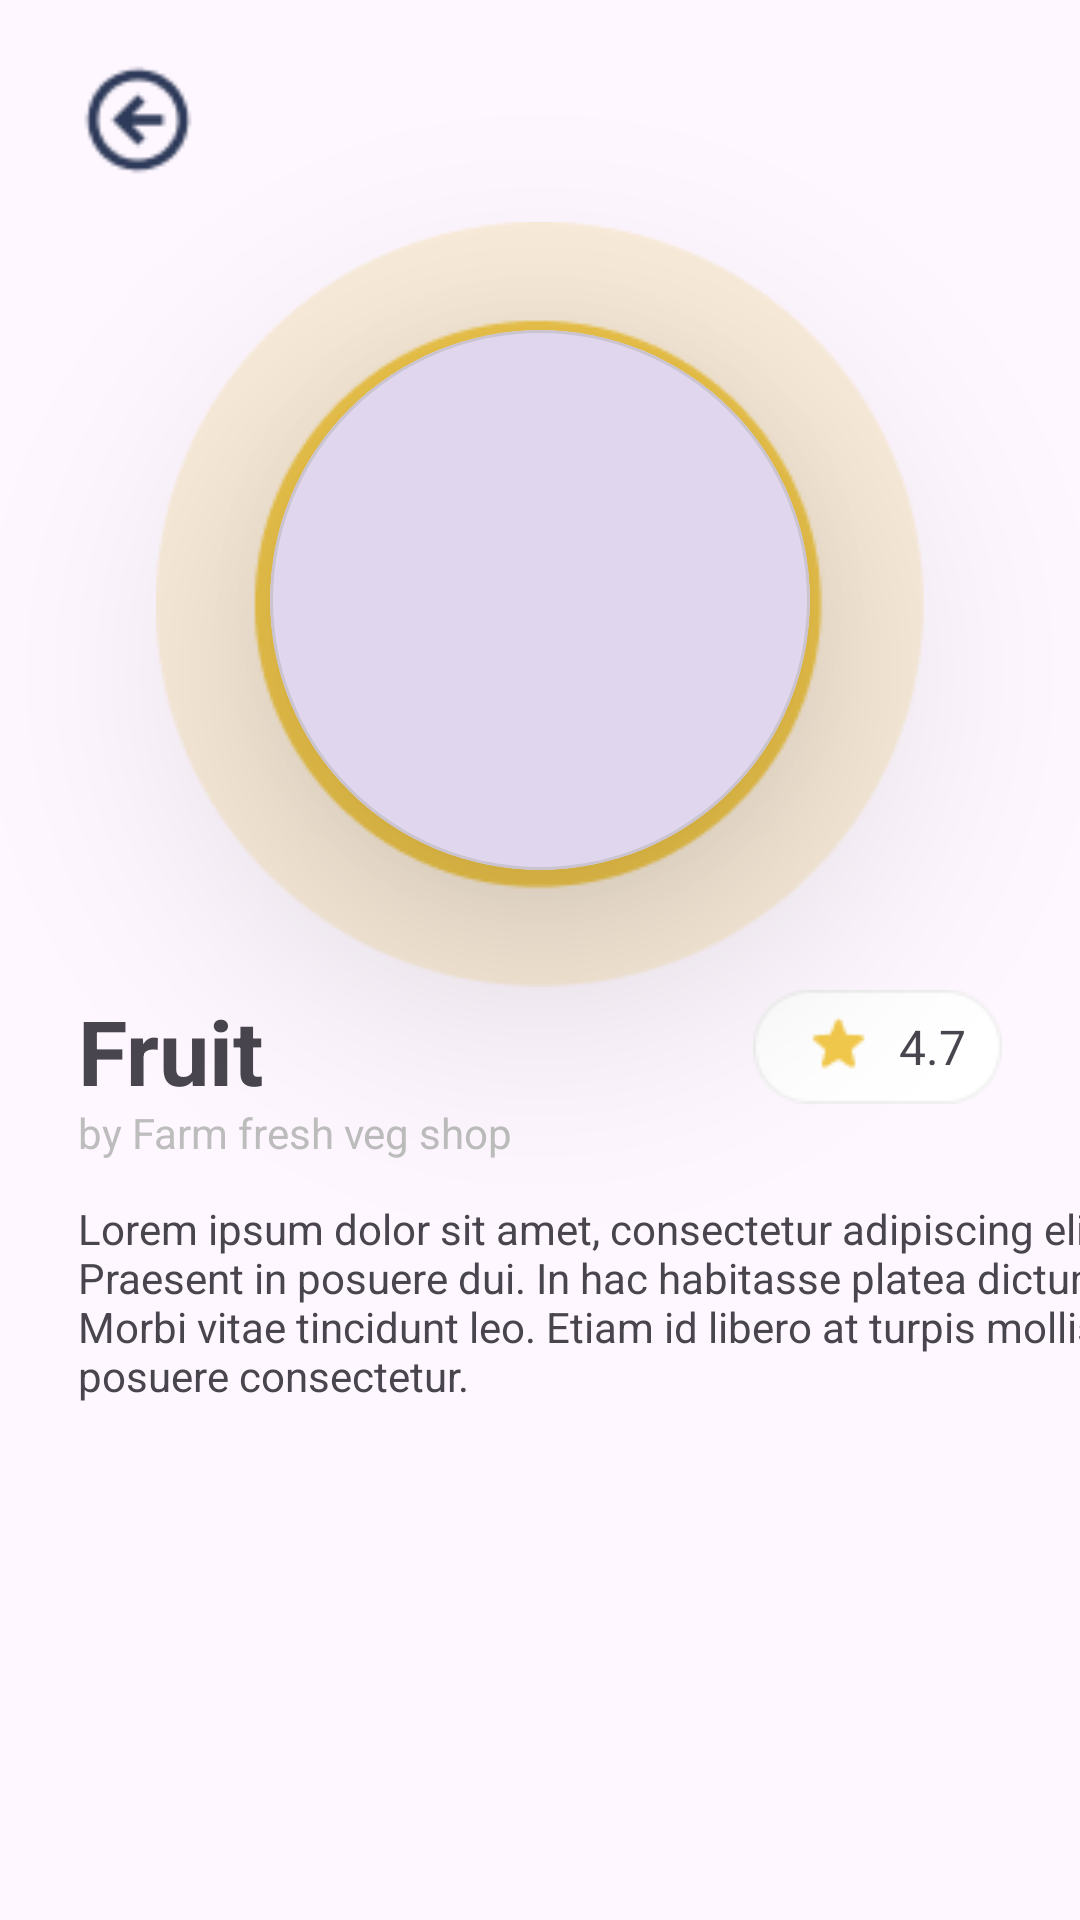

Screen size 1080px x 1920px. Icon name, then its box in pixels as (x1, y1, x2, y2):
circle left: (85, 67, 191, 173)
